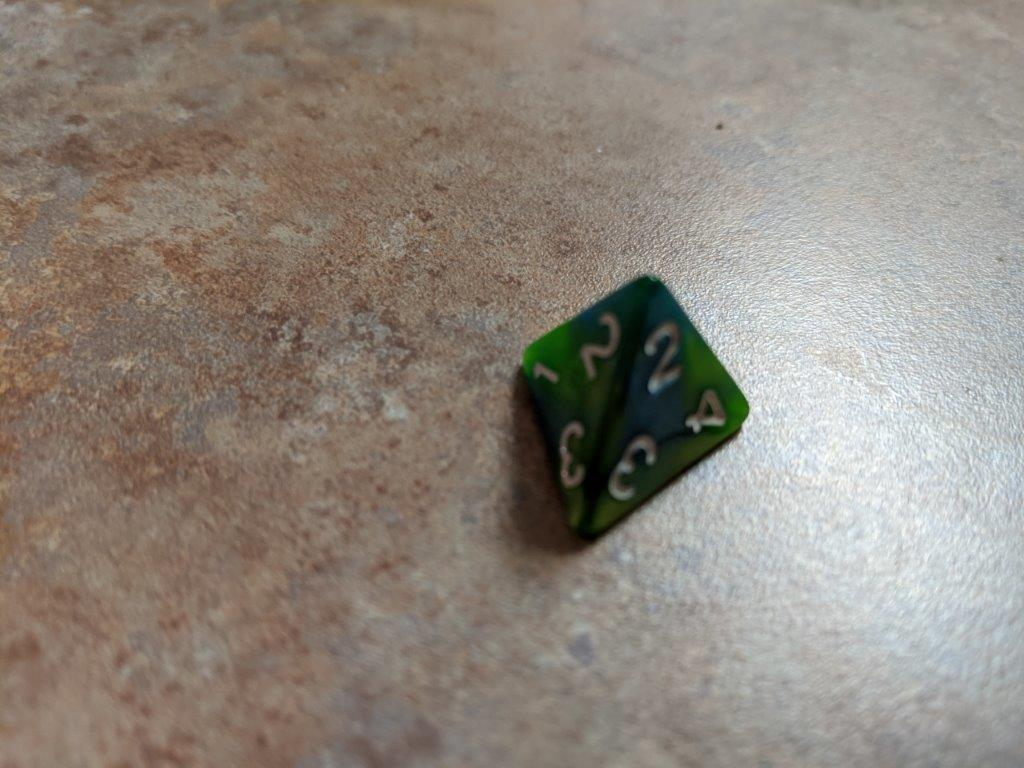d4-2: (507, 271, 755, 548)
